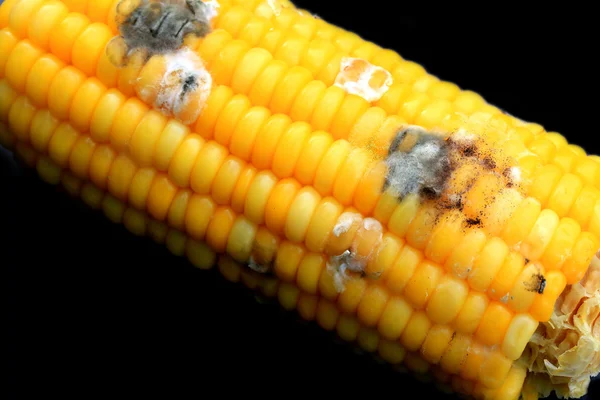rotten corn: (8, 1, 600, 392)
